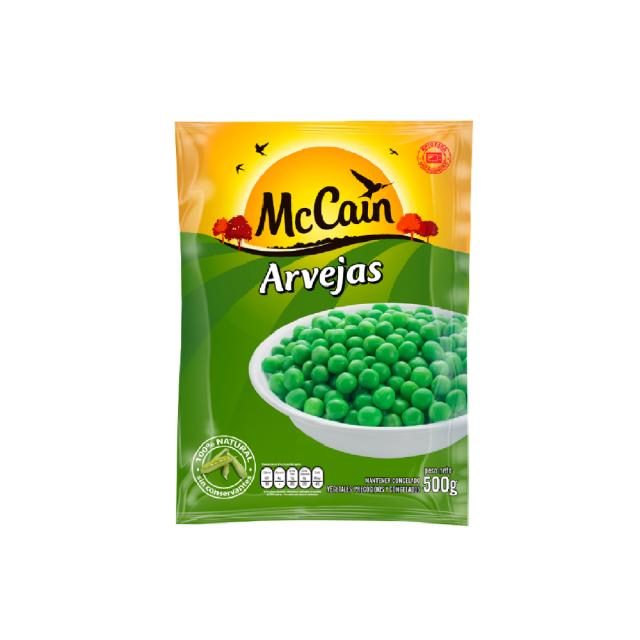arvejas: (256, 302, 468, 421)
